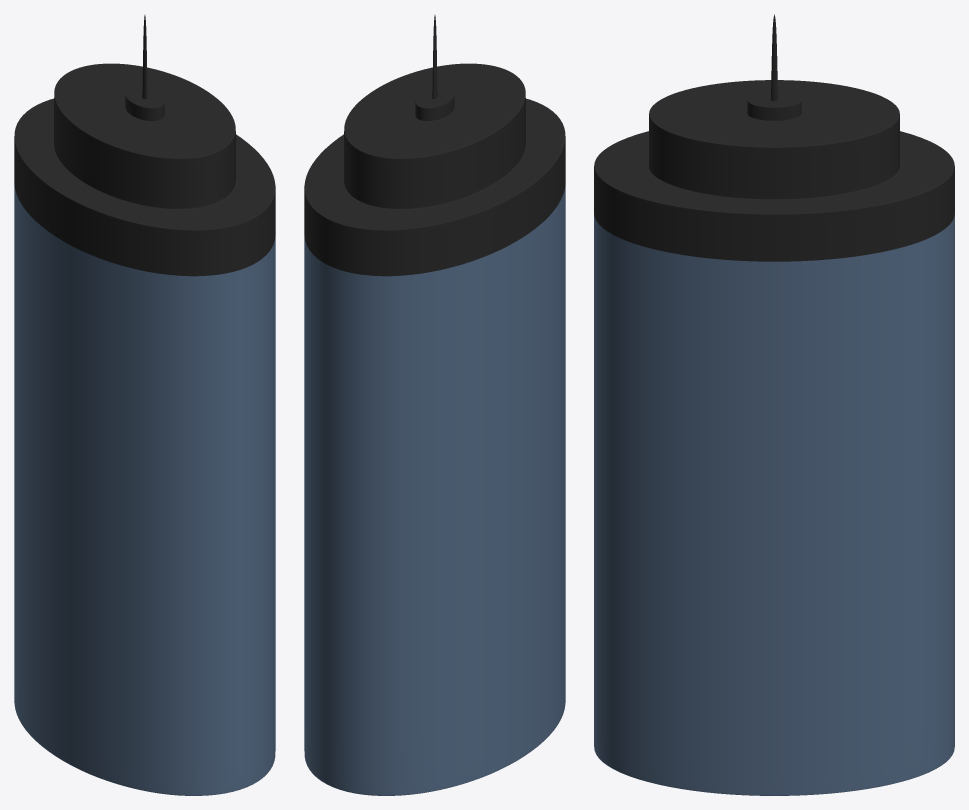
File: skyscraper_07.fbx
The picture shows the model from 3 angles, left to right: view 1: azimuth 30°, elevation 25°; view 2: azimuth 150°, elevation 25°; view 3: azimuth 270°, elevation 25°; orthographic projection. The views are drawn at different scales.
Parts seen in each view (by area): view 1: Cylinder; view 2: Cylinder; view 3: Cylinder.
Boxes of the visible parts, box(x1,y1,x2,y2) form: Cylinder: box(14, 15, 275, 795); Cylinder: box(304, 15, 565, 795); Cylinder: box(594, 14, 954, 795).
Size of the model in its own units: 2567 by 9048 by 4034.
